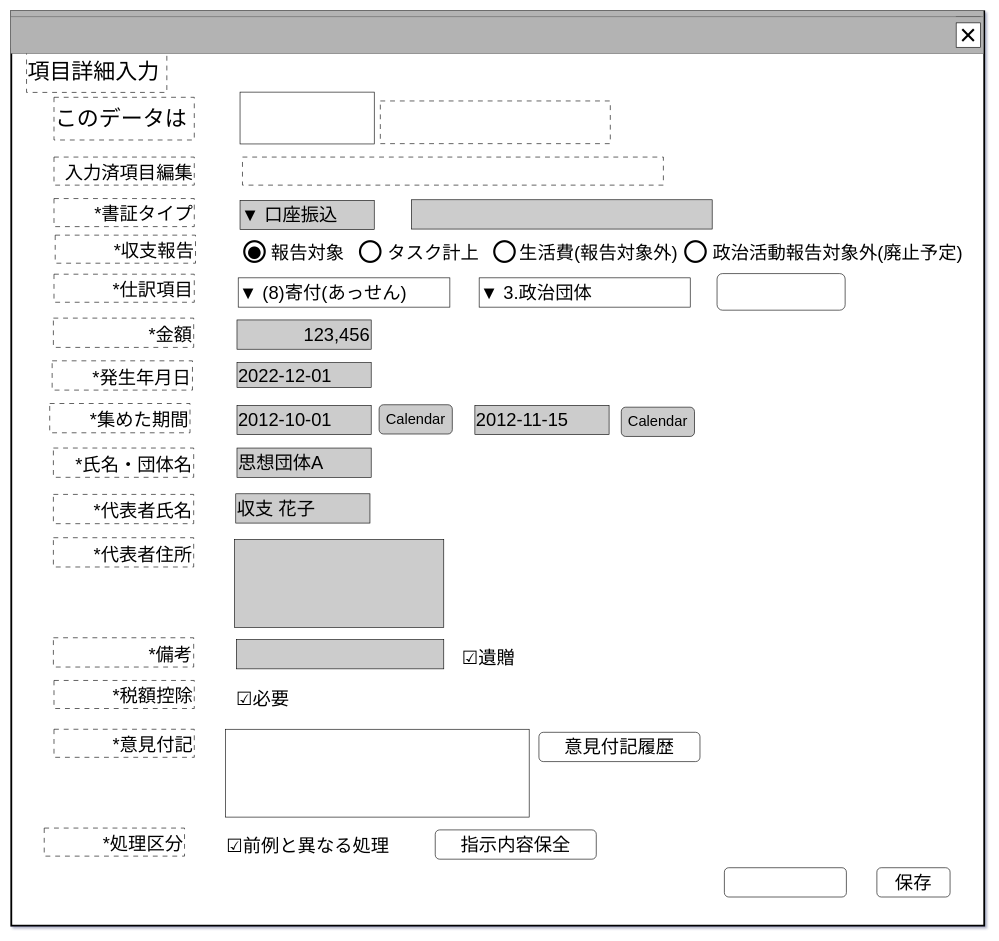
Image size: 999x941. Some labels were removed from this diagram. Each missing label, with the centre of its shape:
"××信用金庫" belongs at [561,214].
"☑入力済項目を編集する" belongs at [452,170].
"です(この 団体に入金 )" belongs at [495,122].
"キャンセル" belongs at [785,882].
"収入" belongs at [306,118].
"報告除外で処理されていますが、××という条文上の理由で報告するのが適当と思われます。" belongs at [377,773].
"書証を参照" belongs at [780,291].
"東京都千代田区霞が関" belongs at [339,583].
